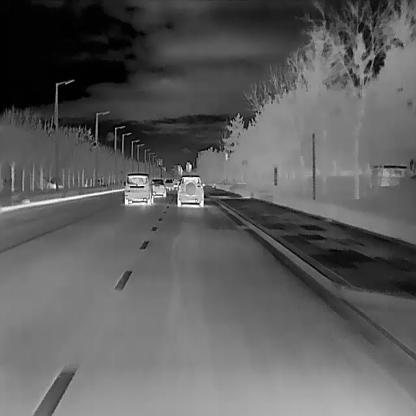car: (124, 172, 155, 206), (176, 175, 205, 206), (151, 177, 167, 197), (164, 178, 173, 188), (172, 178, 180, 187)
